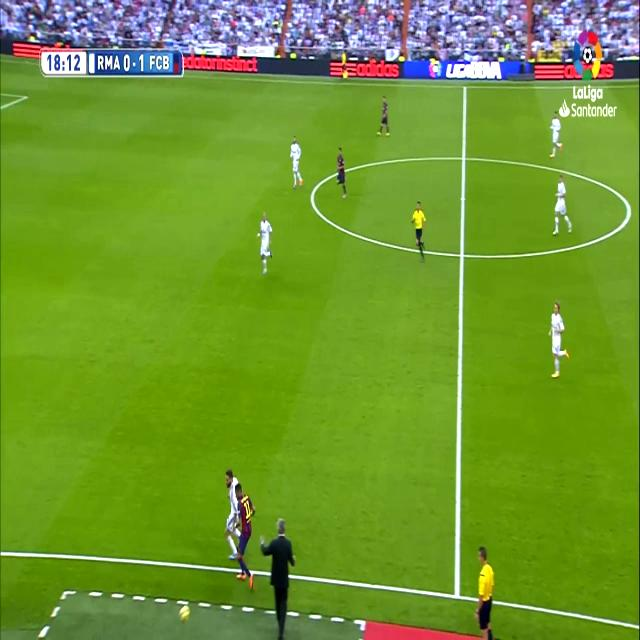halfcircle_bottom: (455, 237, 469, 272)
halfcircle_top: (457, 142, 471, 173)
midline_bottom_intersection: (449, 573, 465, 606)
midline_top_intersection: (461, 80, 470, 96)
